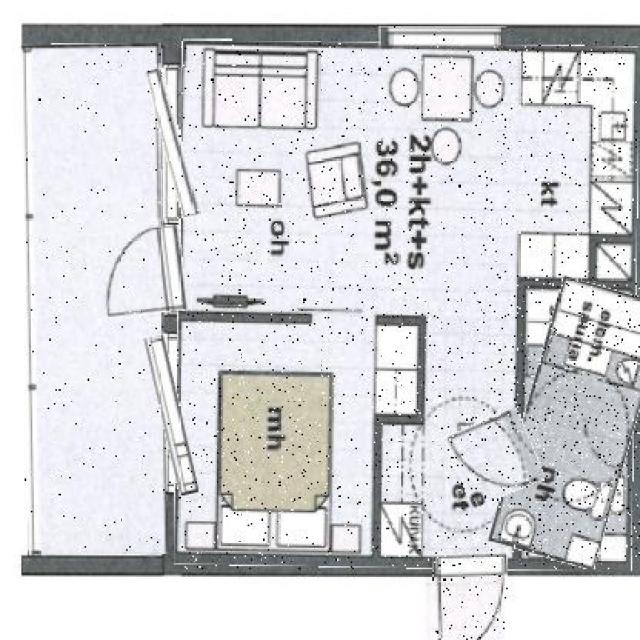door: (88, 226, 186, 317), (449, 414, 540, 503), (432, 546, 508, 640)
window: (152, 334, 191, 495), (157, 68, 194, 218), (379, 26, 506, 46)
zone: (177, 42, 637, 569), (25, 44, 166, 556), (178, 323, 376, 555), (504, 280, 640, 564)
